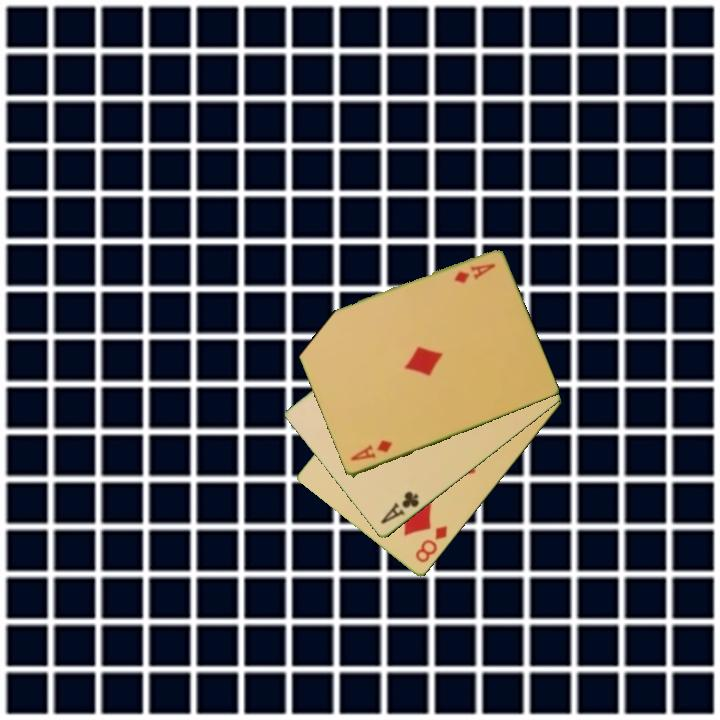8d: (412, 522, 450, 566)
Ac: (377, 488, 422, 527)
Ad: (346, 437, 395, 464), (450, 260, 498, 287)
